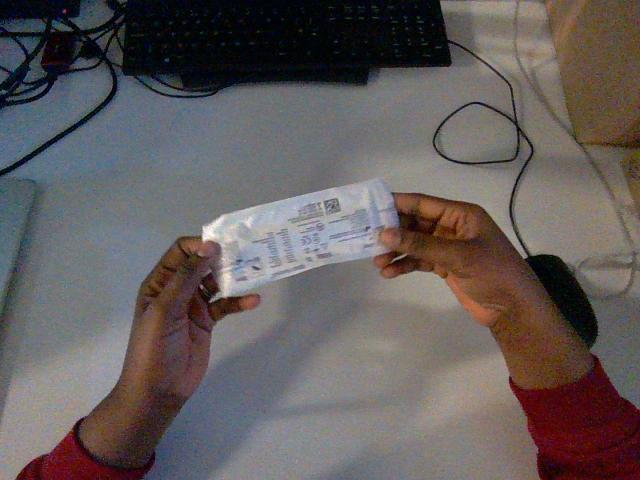syringe: (202, 179, 398, 296)
